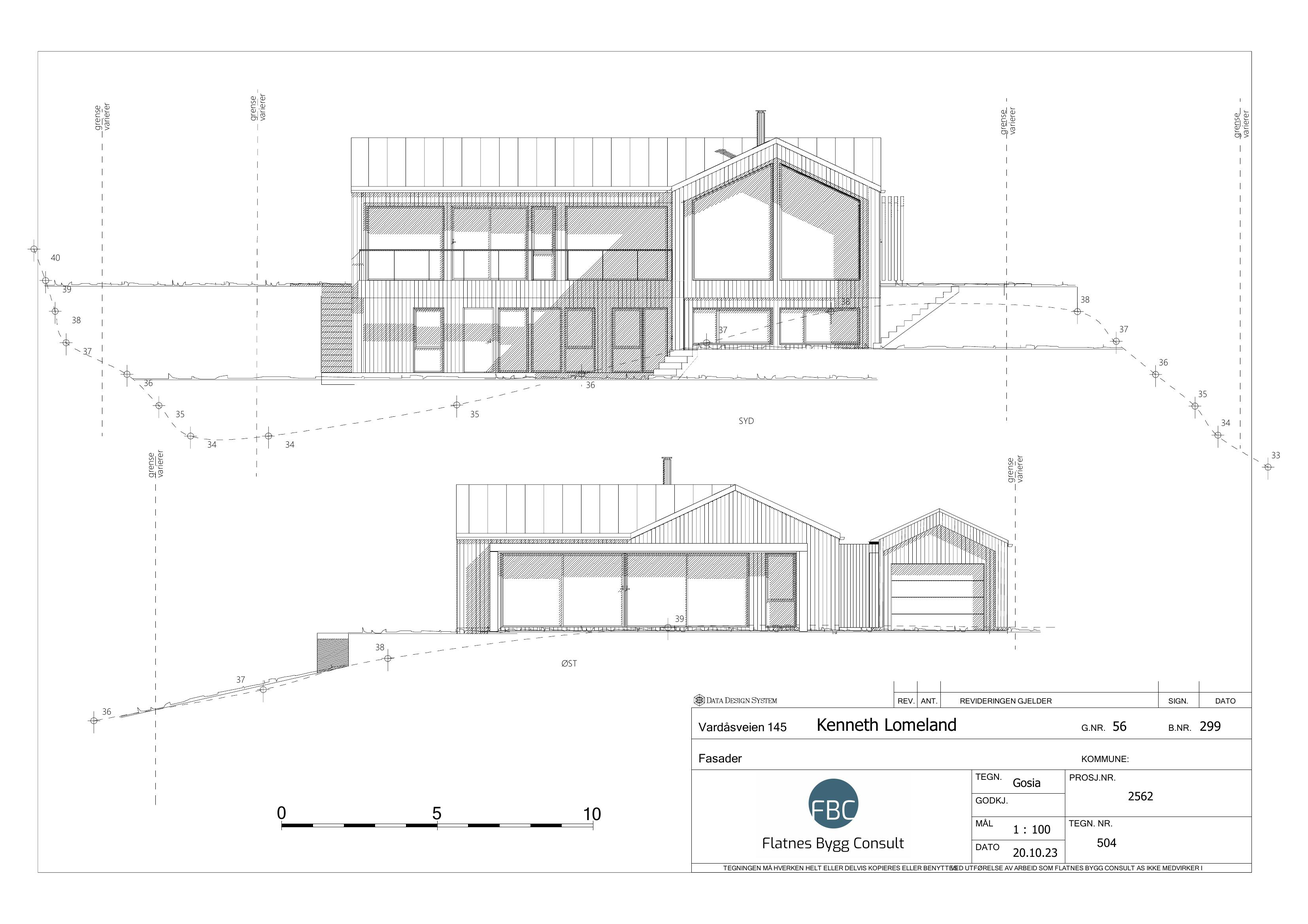fasade: (308, 102, 991, 388), (434, 446, 1015, 647)
